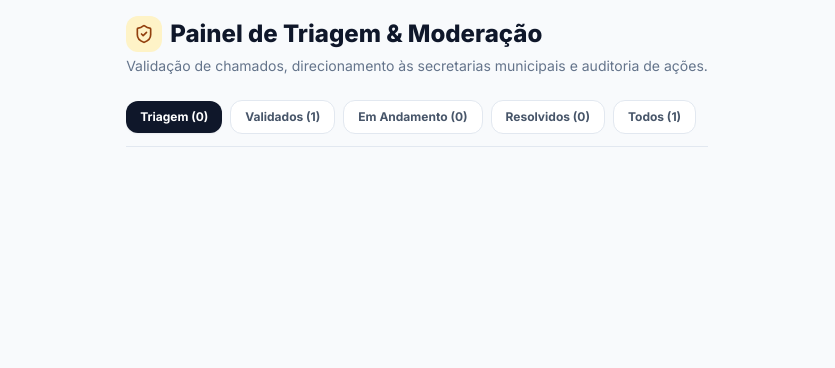
Scenario: ModerationPage › mostra "Iniciar Reparo" (não Aprovar/Rejeitar) para ocorrências já APPROVED
Click the button "Validados (1)": [283, 117] box x1=230 y1=100 x2=335 y2=134
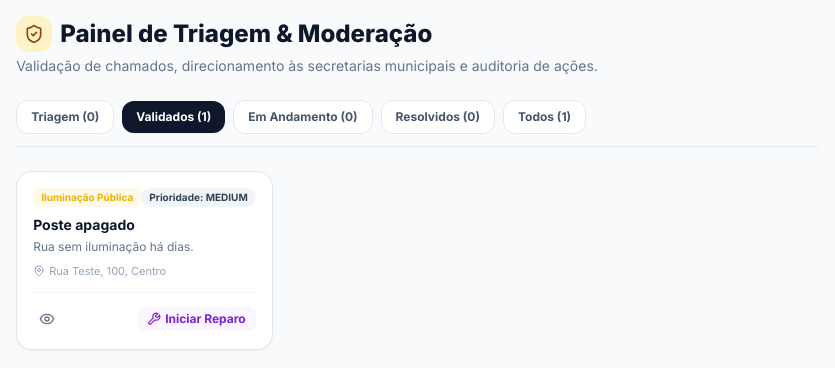
Result: the text "Iniciar Reparo" is shown at x1=165 y1=310 x2=246 y2=326
